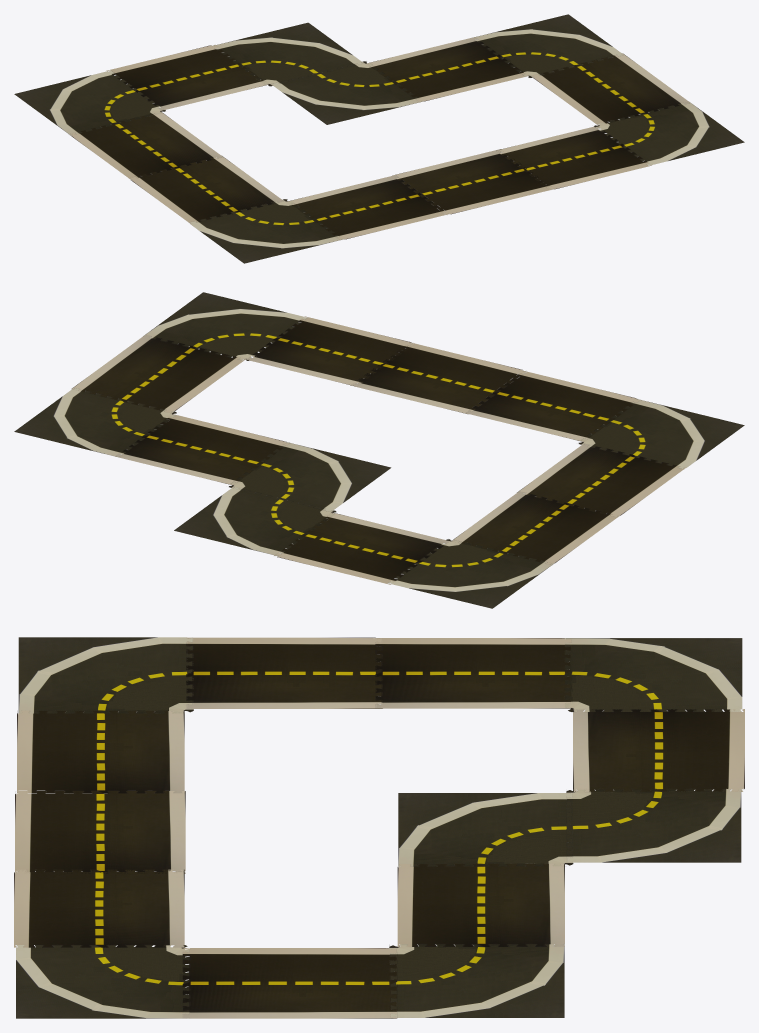
The model's file is lane_follower.glb.
The picture shows the model from 3 angles, top to bottom: view 1: azimuth 30°, elevation 25°; view 2: azimuth 150°, elevation 25°; view 3: azimuth 270°, elevation 25°; orthographic projection. The views are drawn at different scales.
Parts seen in each view (by area): view 1: Tile.031, Tile.007, Tile.013, Tile.004, Tile.010, Tile.012, Tile.009, Tile.011, Tile.001, Tile.002, Tile.005, Tile.006 (+2 smaller); view 2: Tile.031, Tile.007, Tile.013, Tile.012, Tile.010, Tile.004, Tile.009, Tile.001, Tile.011, Tile.002, Tile.005, Tile.003 (+2 smaller); view 3: Tile.031, Tile.007, Tile.010, Tile.004, Tile.013, Tile.009, Tile.012, Tile.001, Tile.011, Tile.002, Tile.008, Tile.005 (+2 smaller).
Boxes of the visible parts, x1=… form: Tile.031: x1=532, y1=53, x2=689, y2=125; Tile.007: x1=106, y1=45, x2=268, y2=110; Tile.013: x1=392, y1=149, x2=554, y2=214; Tile.004: x1=366, y1=37, x2=528, y2=101; Tile.010: x1=130, y1=155, x2=284, y2=223; Tile.012: x1=288, y1=175, x2=448, y2=239; Tile.009: x1=70, y1=111, x2=223, y2=179; Tile.011: x1=189, y1=199, x2=343, y2=263; Tile.001: x1=496, y1=126, x2=651, y2=189; Tile.002: x1=14, y1=70, x2=165, y2=135; Tile.005: x1=271, y1=61, x2=422, y2=124; Tile.006: x1=594, y1=101, x2=744, y2=165; Tile.031: x1=71, y1=334, x2=245, y2=412; Tile.007: x1=274, y1=512, x2=449, y2=584; Tile.013: x1=350, y1=342, x2=525, y2=414; Tile.012: x1=466, y1=370, x2=640, y2=441; Tile.010: x1=517, y1=443, x2=685, y2=517; Tile.004: x1=116, y1=414, x2=289, y2=485; Tile.009: x1=451, y1=491, x2=619, y2=564; Tile.001: x1=246, y1=316, x2=414, y2=386; Tile.011: x1=578, y1=399, x2=744, y2=468; Tile.002: x1=388, y1=539, x2=553, y2=608; Tile.005: x1=229, y1=442, x2=391, y2=511; Tile.003: x1=14, y1=388, x2=176, y2=457; Tile.031: x1=182, y1=948, x2=397, y2=1018; Tile.007: x1=573, y1=709, x2=744, y2=792; Tile.010: x1=186, y1=637, x2=382, y2=708; Tile.004: x1=397, y1=863, x2=564, y2=946; Tile.013: x1=15, y1=791, x2=185, y2=873; Tile.009: x1=375, y1=638, x2=571, y2=708; Tile.012: x1=17, y1=710, x2=184, y2=793; Tile.001: x1=14, y1=869, x2=184, y2=947; Tile.011: x1=18, y1=637, x2=193, y2=713; Tile.002: x1=564, y1=638, x2=742, y2=711; Tile.008: x1=566, y1=788, x2=741, y2=862; Tile.005: x1=398, y1=793, x2=573, y2=866.
Bounding box in the file's own units: 3.05 × 0 × 2.47.
14 materials, 14 textured.
